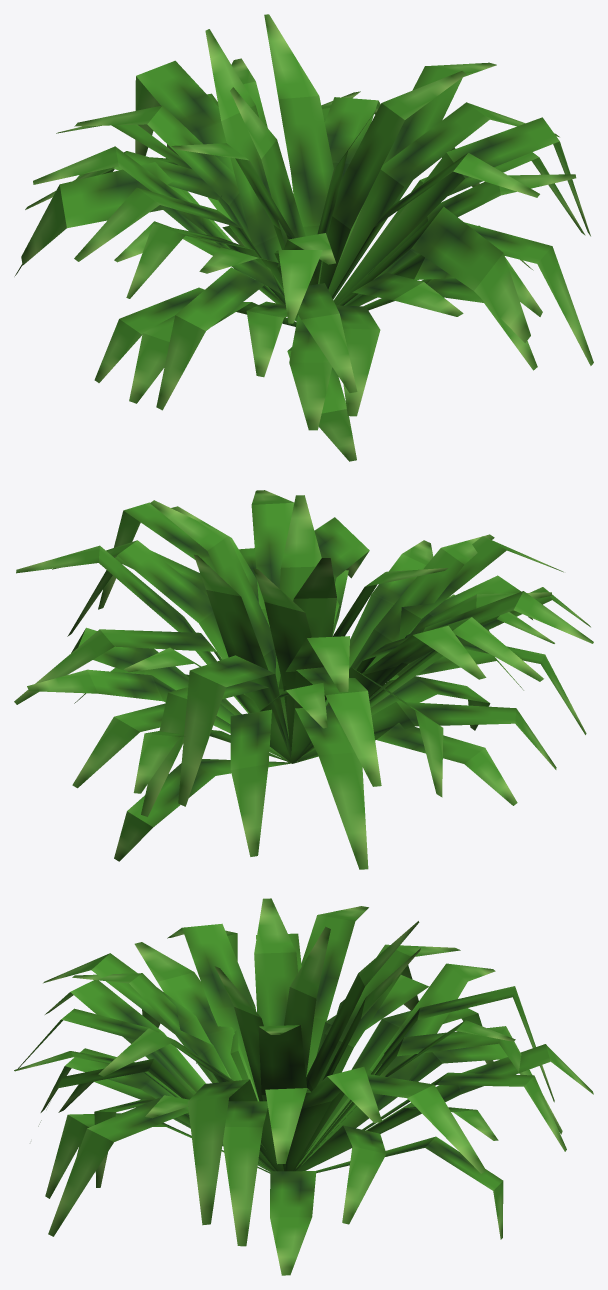
File: Poly_Weed_Plant_01.obj
3 renders of one model, top to bottom at view 1: azimuth 30°, elevation 25°; view 2: azimuth 150°, elevation 25°; view 3: azimuth 270°, elevation 25°, orthographic. The views are drawn at different scales.
Visible parts, largest first — view 1: Plane.001, Plane.002, Plane.003; view 2: Plane.002, Plane.001, Plane.003; view 3: Plane.002, Plane.001, Plane.003.
Boxes of the visible parts, x1,y1,x2,y2 form: Plane.001: (25, 14, 576, 416); Plane.002: (14, 60, 593, 430); Plane.003: (56, 58, 542, 461); Plane.002: (67, 490, 593, 869); Plane.001: (14, 500, 551, 805); Plane.003: (27, 534, 590, 861); Plane.002: (38, 923, 562, 1246); Plane.001: (40, 898, 486, 1275); Plane.003: (14, 930, 593, 1239).
Bounding box in the file's own units: 1.03 × 0.5772 × 1.11.
Materials: 1 (1 with a texture image).
